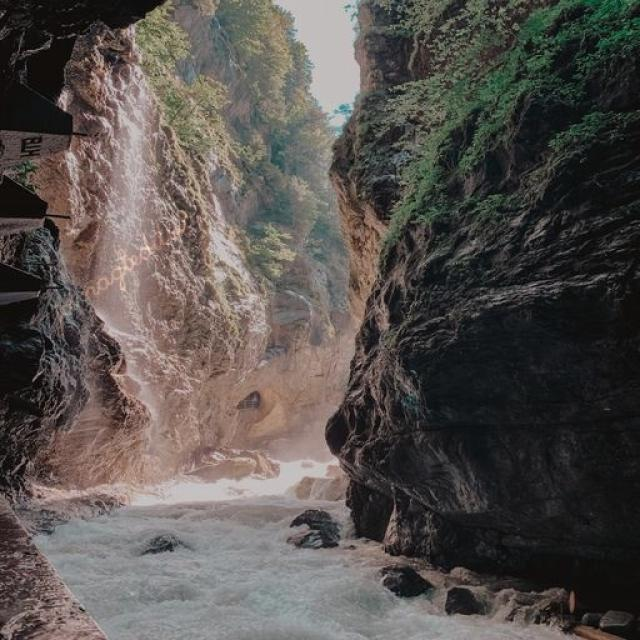watermark: (52, 192, 200, 326)
